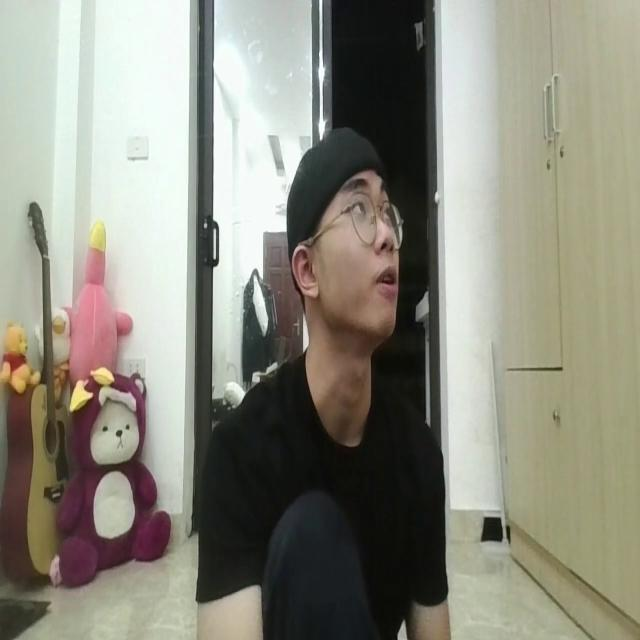student: (199, 119, 455, 640)
